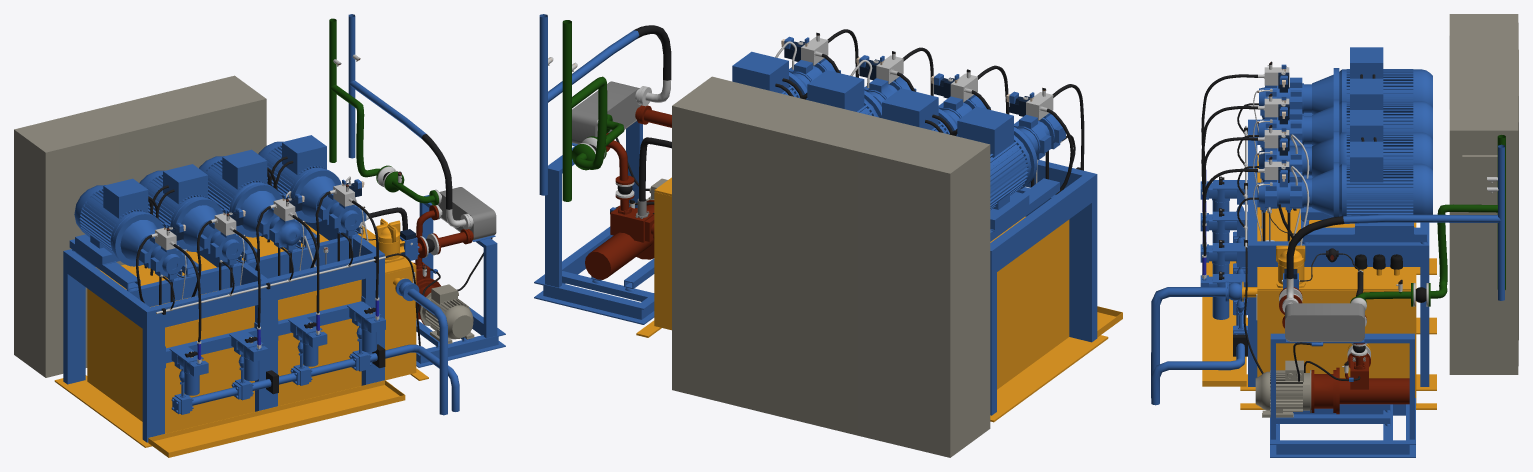
Rendered from cetim.glb.
3 views of the same model, side by side, from view 1: azimuth 30°, elevation 25°; view 2: azimuth 150°, elevation 25°; view 3: azimuth 270°, elevation 25° (orthographic). The views are drawn at different scales.
Visible parts, largest first — view 1: Global_no_color, Reservoir, Armoire_Elec, GMP_4, GMP_2, GMP_3, GMP_1, Support_GFR, Bloc_droit_partie_2_GFR, Arrivee_eau_GFR, Moteur_GFR, Bloc_droit_partie_GFR (+14 smaller); view 2: Armoire_Elec, Reservoir, Global_no_color, Support_GFR, GMP_4, Bloc_droit_partie_2_GFR, Arrivee_eau_GFR, Moteur_GFR, GMP_2, GMP_3, GMP_1, Echangeur_GFR (+6 smaller); view 3: Armoire_Elec, Reservoir, Global_no_color, GMP_1, Support_GFR, Moteur_GFR, GMP_4, GMP_3, GMP_2, Bloc_droit_partie_2_GFR, Echangeur_GFR, Arrivee_eau_GFR (+15 smaller).
Boxes of the visible parts, x1=… form: Global_no_color: x1=63, y1=217, x2=459, y2=442; Reservoir: x1=54, y1=223, x2=428, y2=457; Armoire_Elec: x1=14, y1=75, x2=266, y2=377; GMP_4: x1=74, y1=178, x2=187, y2=282; GMP_2: x1=199, y1=149, x2=306, y2=253; GMP_3: x1=139, y1=164, x2=247, y2=267; GMP_1: x1=258, y1=135, x2=366, y2=238; Support_GFR: x1=416, y1=195, x2=505, y2=367; Bloc_droit_partie_2_GFR: x1=348, y1=14, x2=466, y2=266; Arrivee_eau_GFR: x1=329, y1=18, x2=441, y2=205; Moteur_GFR: x1=416, y1=263, x2=474, y2=343; Bloc_droit_partie_GFR: x1=352, y1=54, x2=492, y2=345; Armoire_Elec: x1=672, y1=76, x2=990, y2=457; Reservoir: x1=636, y1=177, x2=1122, y2=422; Global_no_color: x1=990, y1=160, x2=1097, y2=415; Support_GFR: x1=534, y1=121, x2=654, y2=324; GMP_4: x1=957, y1=106, x2=1065, y2=231; Bloc_droit_partie_2_GFR: x1=539, y1=14, x2=671, y2=210; Arrivee_eau_GFR: x1=562, y1=20, x2=624, y2=201; Moteur_GFR: x1=585, y1=178, x2=667, y2=279; GMP_2: x1=807, y1=70, x2=916, y2=117; GMP_3: x1=882, y1=88, x2=990, y2=136; GMP_1: x1=732, y1=51, x2=840, y2=99; Echangeur_GFR: x1=572, y1=81, x2=640, y2=144; Armoire_Elec: x1=1449, y1=14, x2=1518, y2=374; Reservoir: x1=1202, y1=155, x2=1436, y2=409; Global_no_color: x1=1151, y1=113, x2=1429, y2=405; GMP_1: x1=1259, y1=141, x2=1432, y2=235; Support_GFR: x1=1270, y1=333, x2=1415, y2=457; Moteur_GFR: x1=1255, y1=356, x2=1409, y2=417; GMP_4: x1=1259, y1=47, x2=1432, y2=118; GMP_3: x1=1259, y1=78, x2=1432, y2=150; GMP_2: x1=1259, y1=110, x2=1432, y2=181; Bloc_droit_partie_2_GFR: x1=1286, y1=144, x2=1504, y2=366; Echangeur_GFR: x1=1285, y1=303, x2=1364, y2=341; Arrivee_eau_GFR: x1=1350, y1=135, x2=1505, y2=310.
Size of the model in its own units: 4.15 by 2.78 by 3.23.
